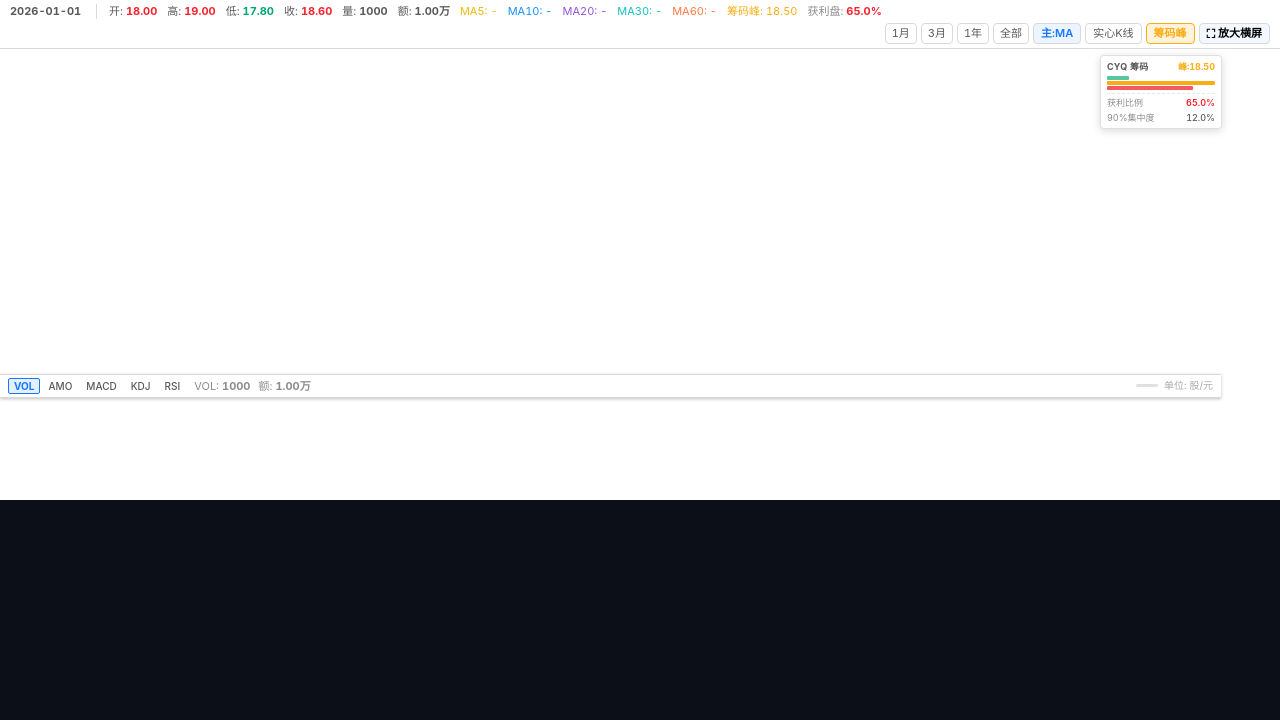
Test: KlineChart › supports chip peak line and CYQ distribution display toggle
Check: the text "筹码峰: 18.50" is shown, box [727, 4, 797, 19]
Check: the text "CYQ 筹码" is shown, box [1107, 60, 1148, 73]
Note: Toggle off
Click the button "筹码峰".
click(1170, 34)  # box [1146, 23, 1195, 44]
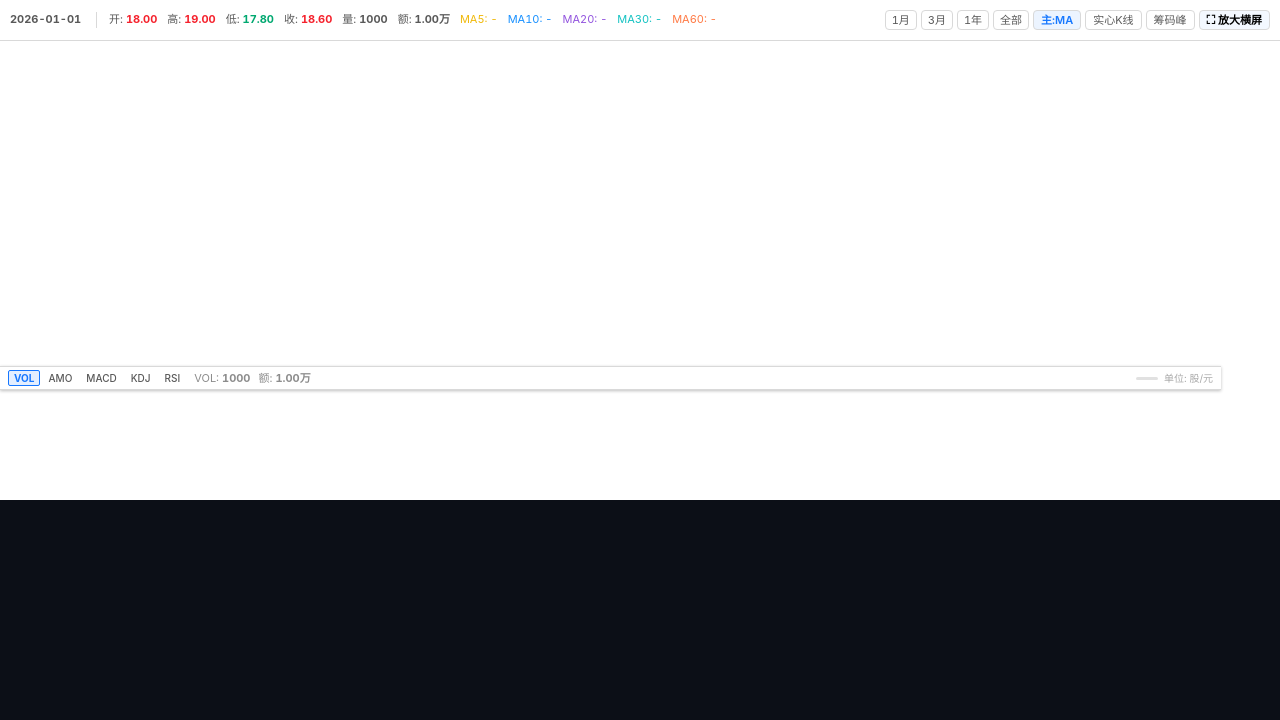
Check: the text "筹码峰: 18.50" is gone
Check: the text "CYQ 筹码" is gone
